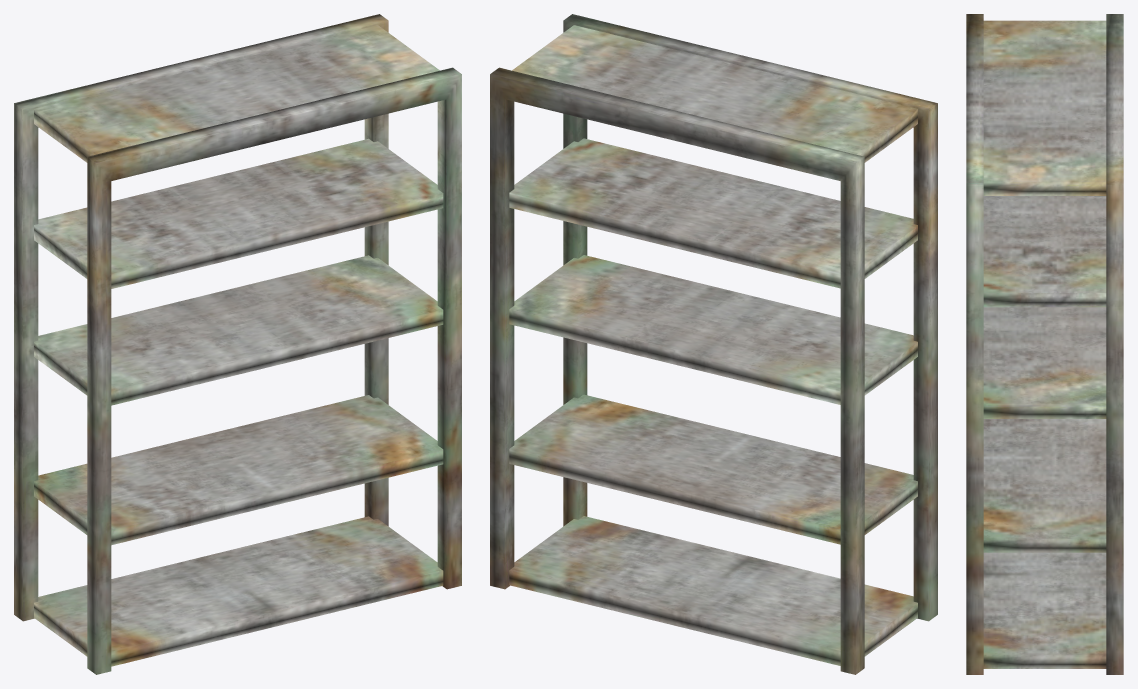
Rendered from cabinet3.fbx.
3 views of the same model, side by side, from view 1: azimuth 30°, elevation 25°; view 2: azimuth 150°, elevation 25°; view 3: azimuth 270°, elevation 25° (orthographic). The views are drawn at different scales.
Visible parts, largest first — view 1: cabinet3; view 2: cabinet3; view 3: cabinet3.
Boxes of the visible parts, x1=… form: cabinet3: x1=14, y1=14, x2=461, y2=674; cabinet3: x1=490, y1=14, x2=937, y2=674; cabinet3: x1=966, y1=14, x2=1123, y2=674.
Bounding box in the file's own units: 656 × 877 × 256.
